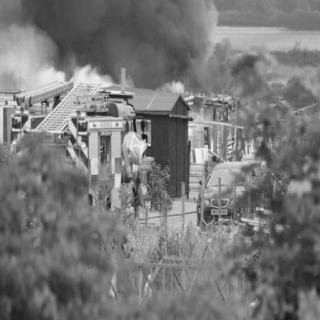Fire: (184, 82, 274, 160)
